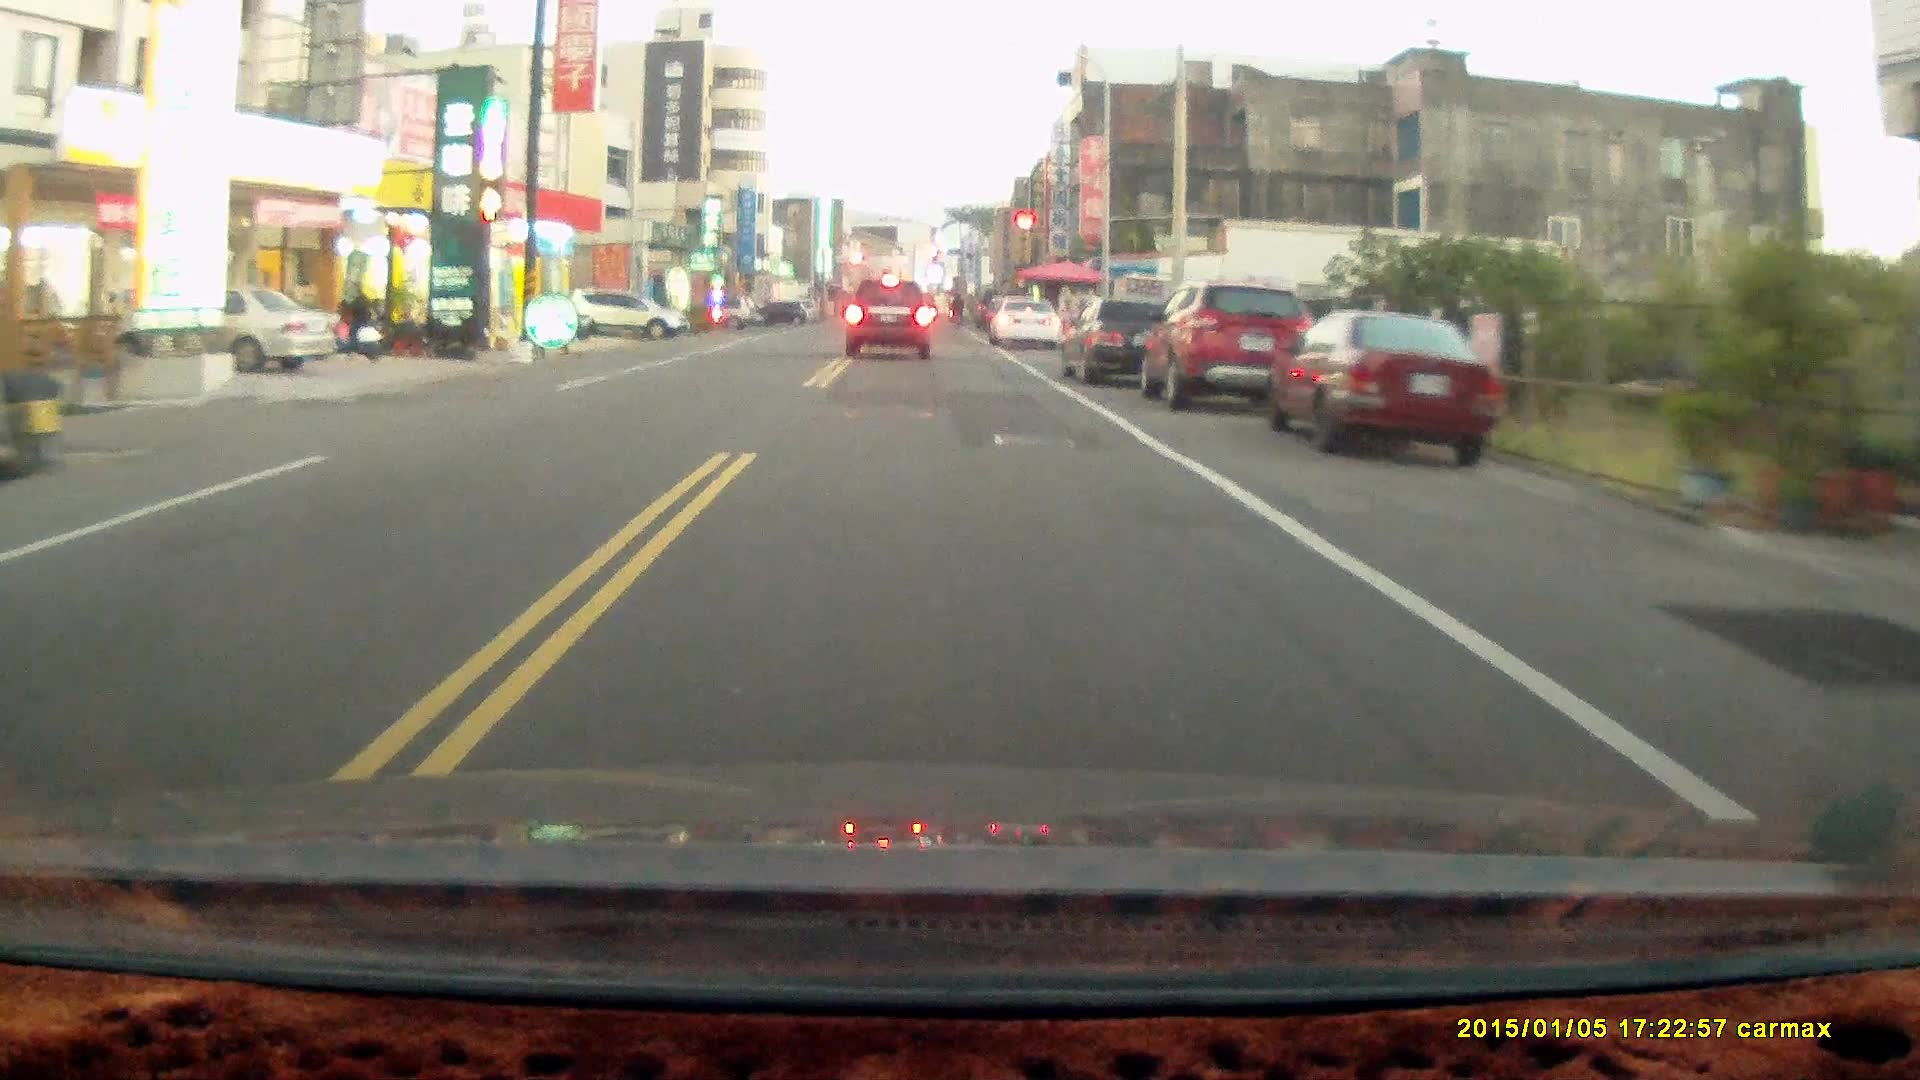vehicle: (1265, 303, 1509, 462), (1145, 276, 1327, 407), (119, 282, 335, 375), (1062, 295, 1189, 382), (845, 274, 938, 357), (568, 286, 688, 338), (992, 295, 1062, 352)
